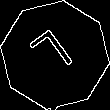L_SE: (27, 25, 83, 85)
